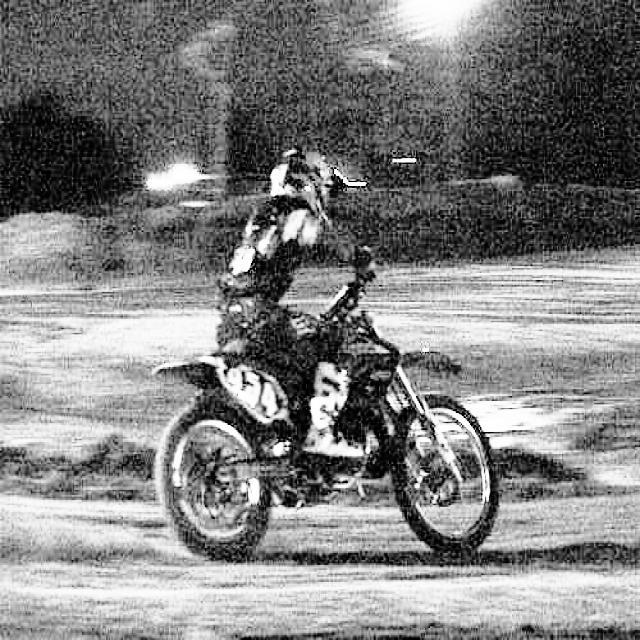Motorcycle: (138, 277, 535, 605)
